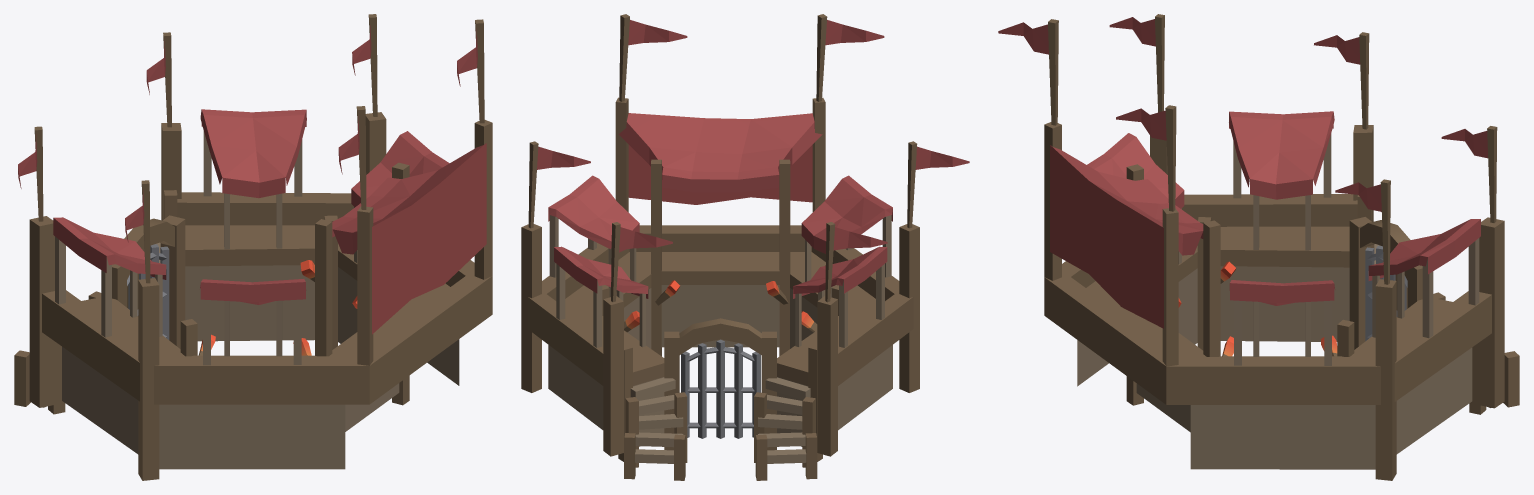
Rendered from gladiatorarena.fbx.
3 views of the same model, side by side, from view 1: azimuth 30°, elevation 25°; view 2: azimuth 150°, elevation 25°; view 3: azimuth 270°, elevation 25° (orthographic). The views are drawn at different scales.
Parts seen in each view (by area): view 1: gladiatorarena; view 2: gladiatorarena; view 3: gladiatorarena.
Boxes of the visible parts, x1=… form: gladiatorarena: x1=14, y1=14, x2=492, y2=480; gladiatorarena: x1=521, y1=14, x2=969, y2=480; gladiatorarena: x1=998, y1=14, x2=1519, y2=480.
Bounding box in the file's own units: 2.69 × 2.48 × 3.06.
